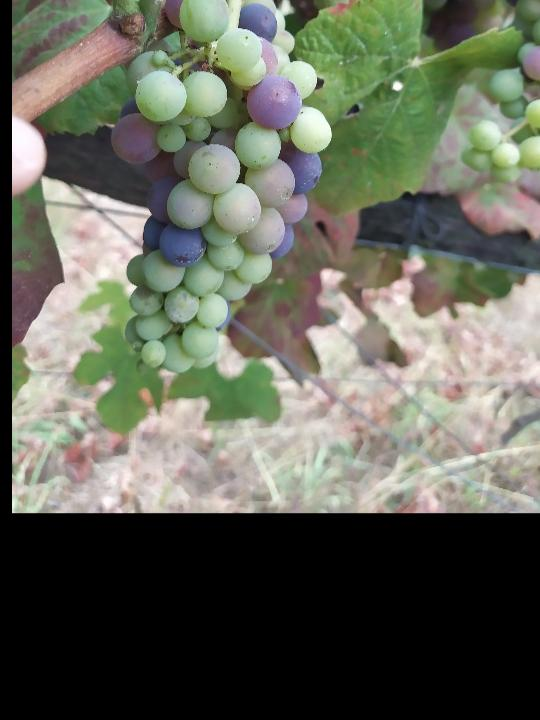grape: (108, 0, 335, 379)
